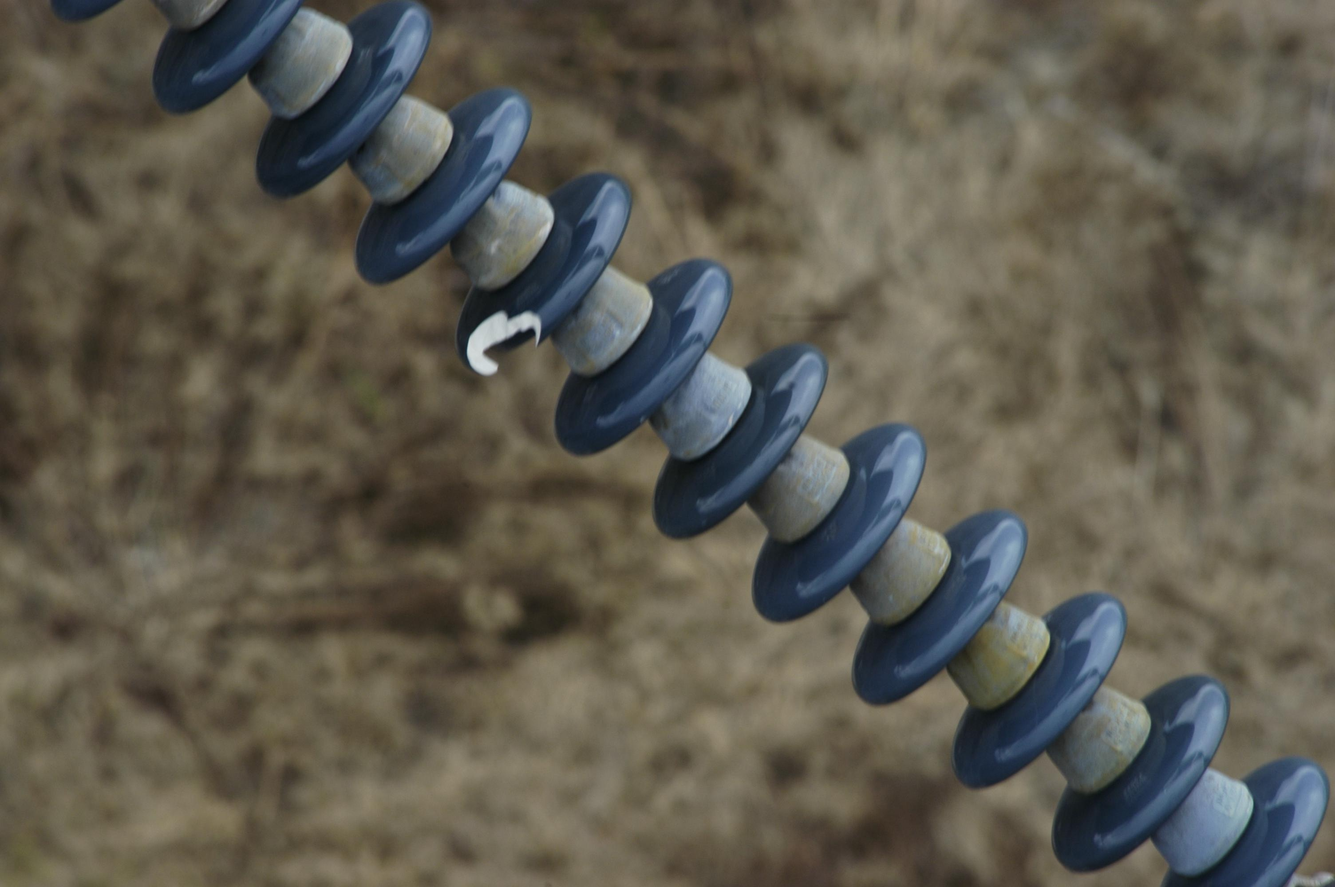damaged: (453, 291, 560, 379)
insulator: (62, 0, 1323, 880)
